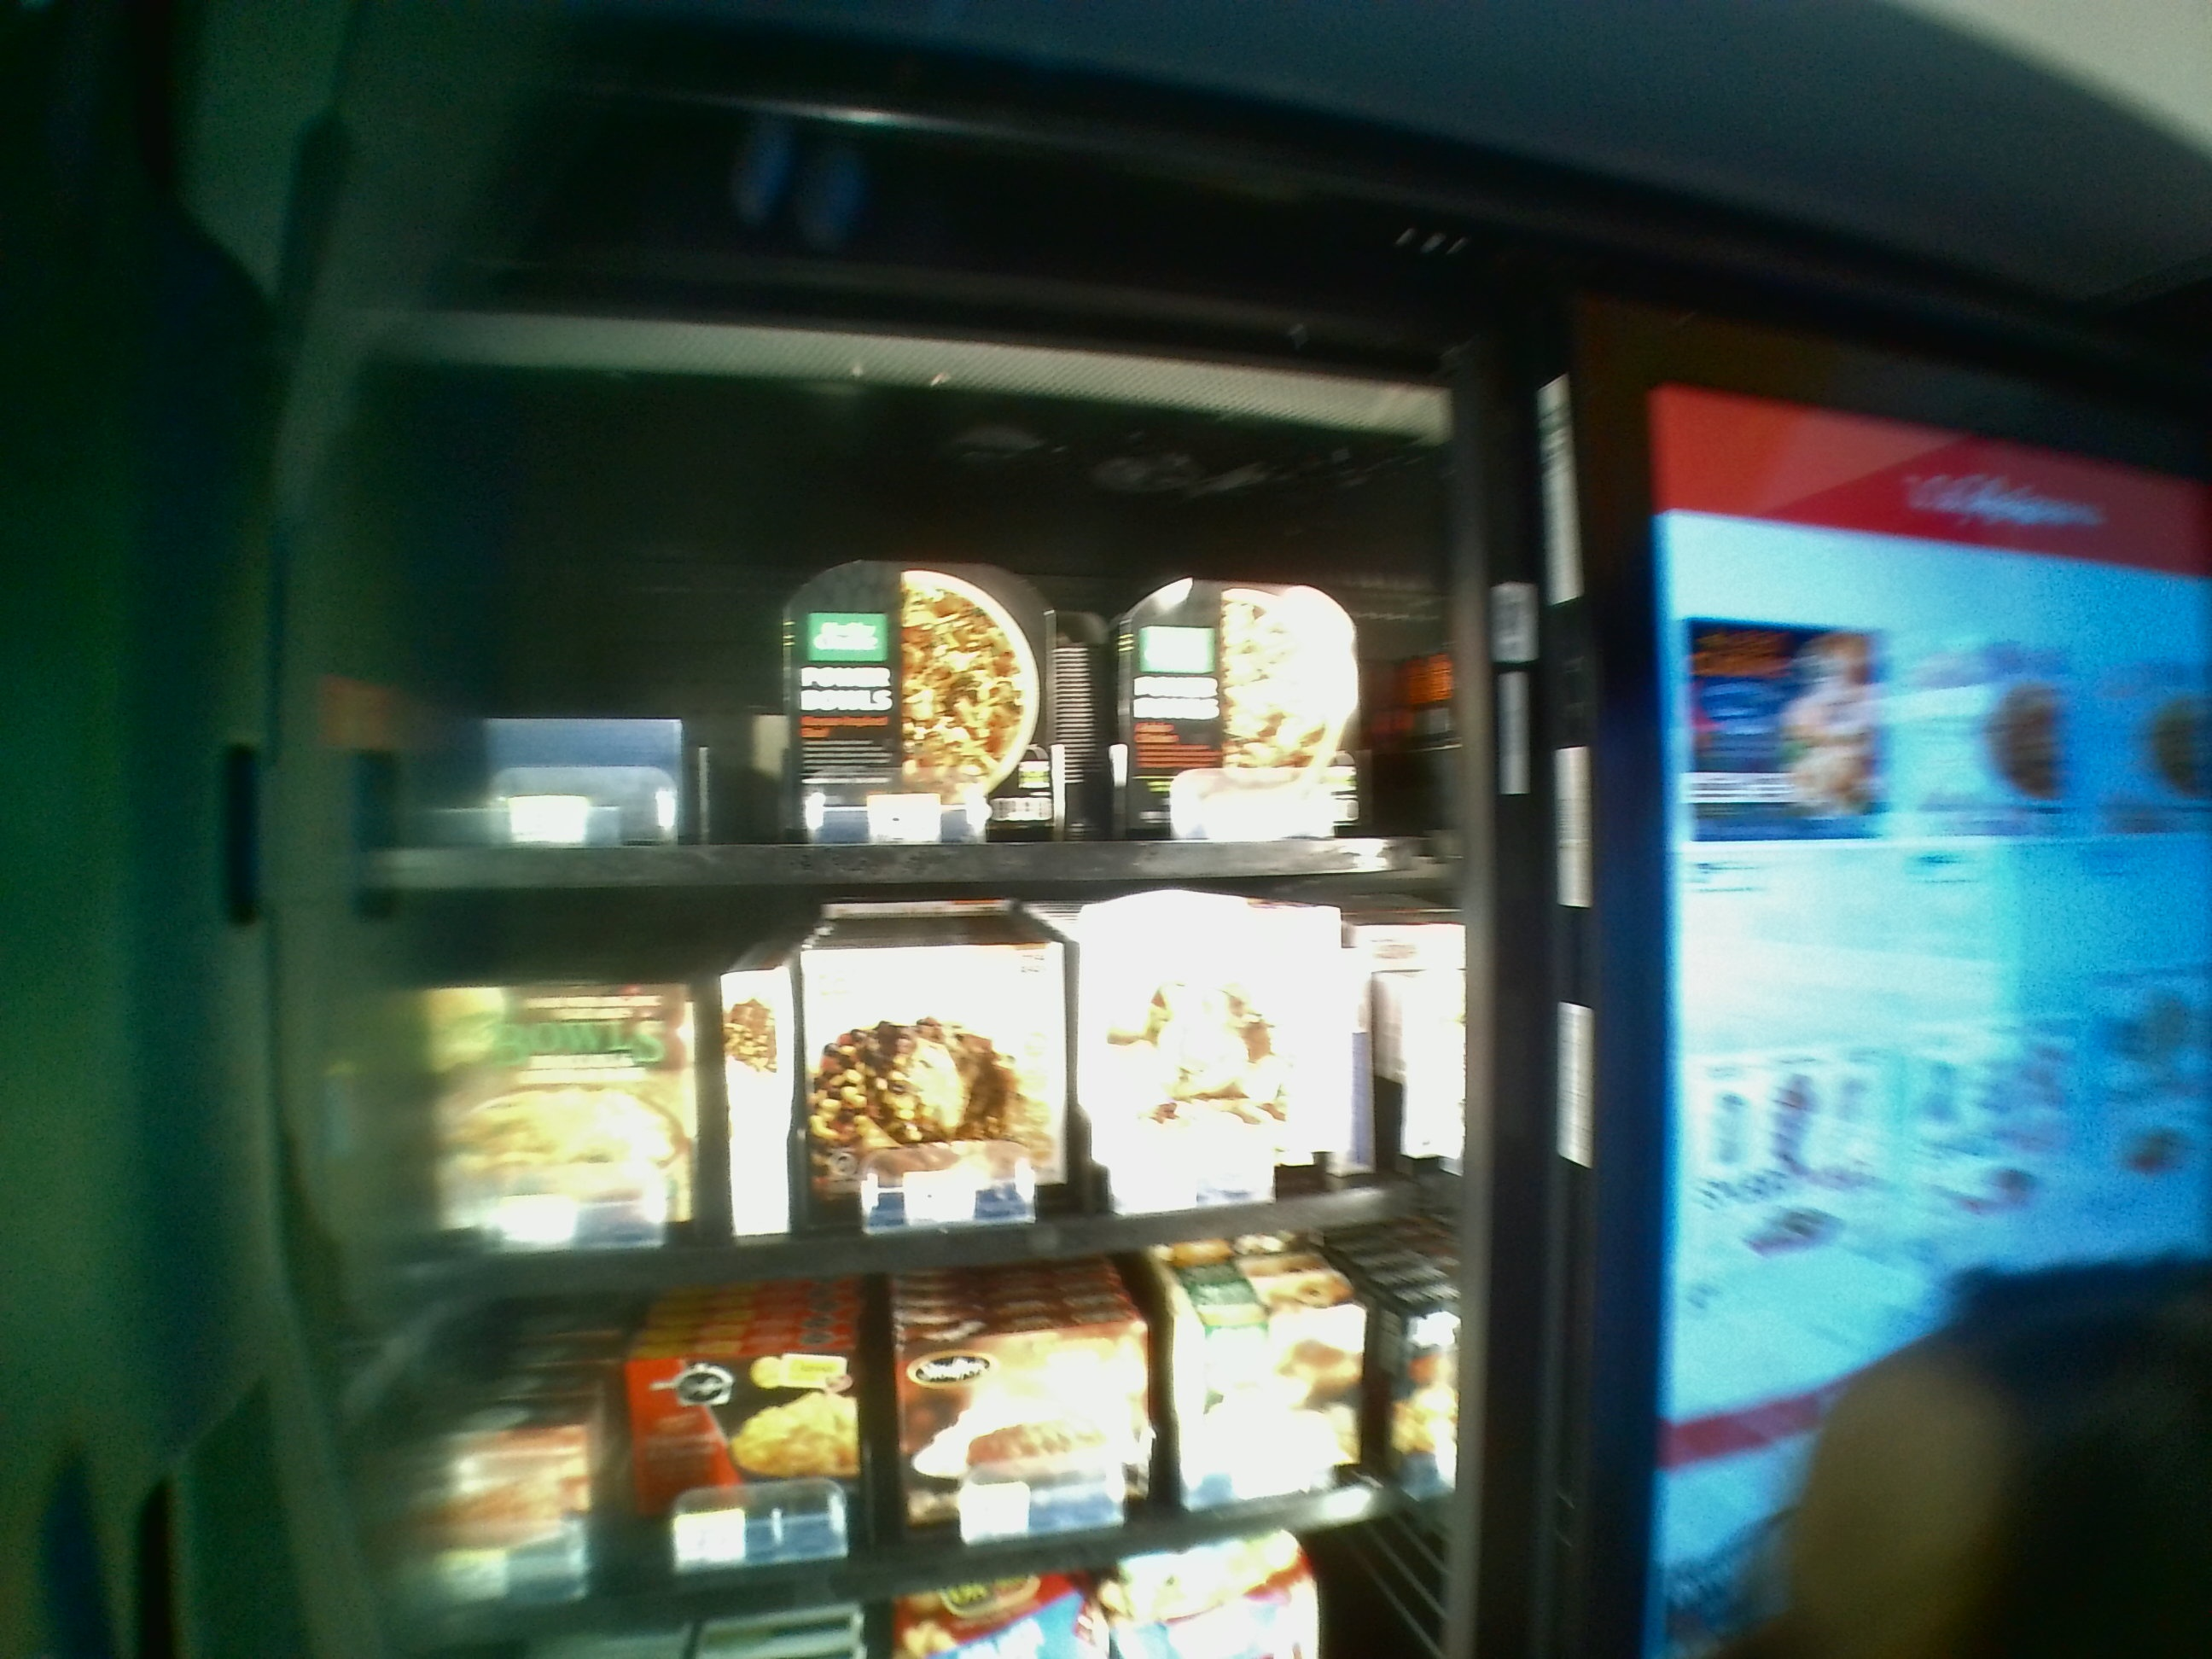shelf: (355, 437, 1440, 889), (348, 904, 1456, 1300)
